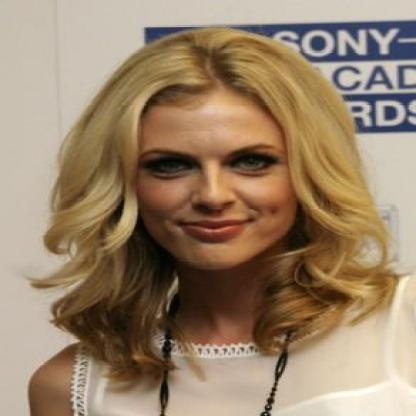long-hair: (38, 269, 390, 308)
